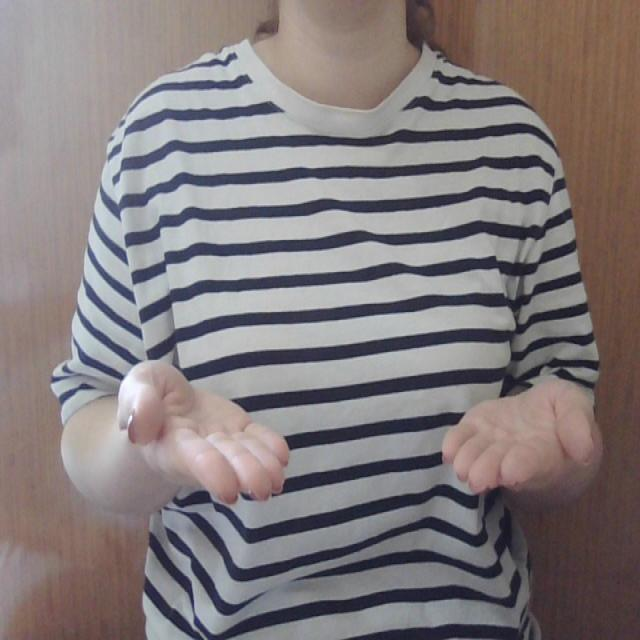Evet: (105, 354, 600, 508)
